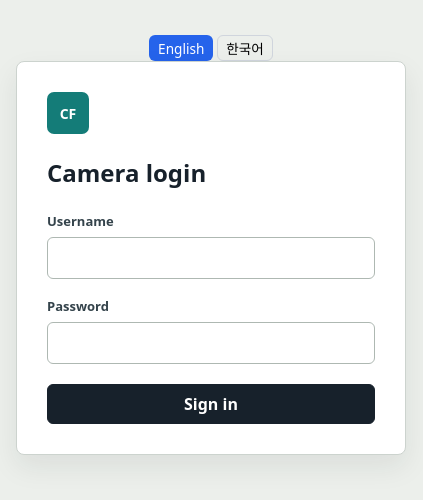
LoginPage › shows only generic failure feedback and clears the submitted password
Type "operator.one" into the field labelled "Username" at (211, 258), box [47,237,375,279]
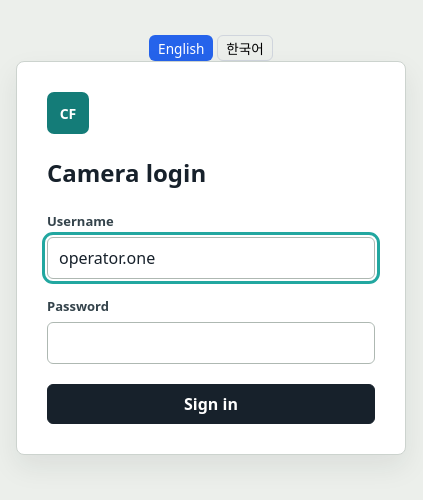
Type "NorthStar!9" into the password field labelled "Password" at (211, 343), box [47,322,375,364]
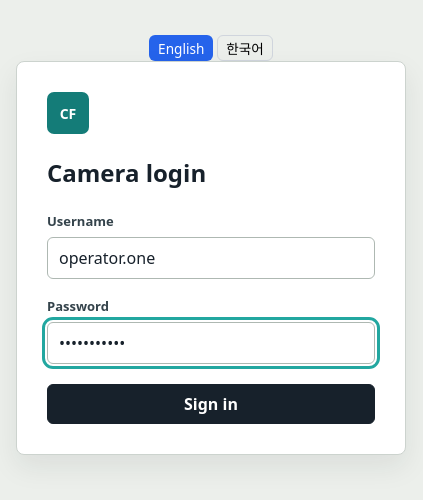
Click the button "Sign in" at (211, 404), box [47,384,375,424]
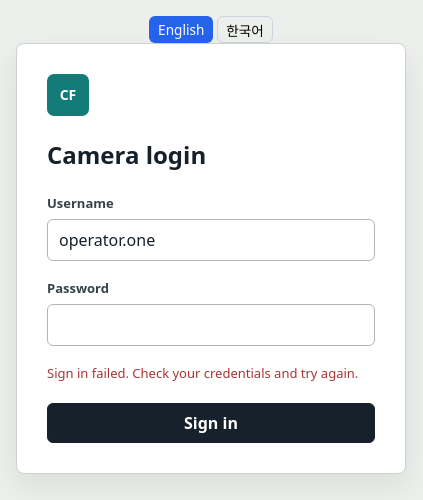
Expected: the message reads "Sign in failed. Check your credentials and try again.", [47,364,358,382]
Expected: the password field labelled "Password" is empty, [47,304,375,346]
